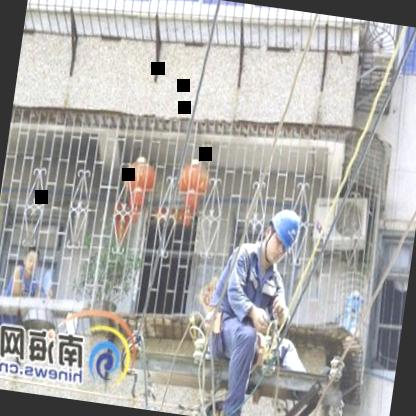head: (18, 239, 44, 276)
helmet: (259, 204, 304, 270)
